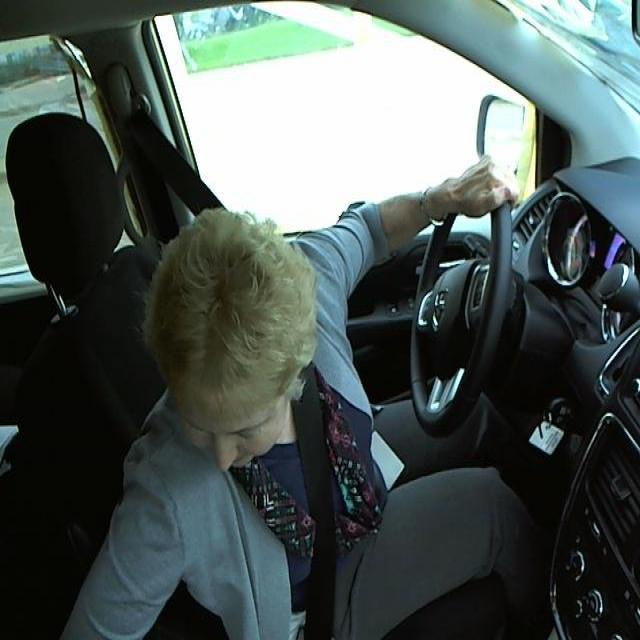seatbelt: (296, 376, 353, 637)
